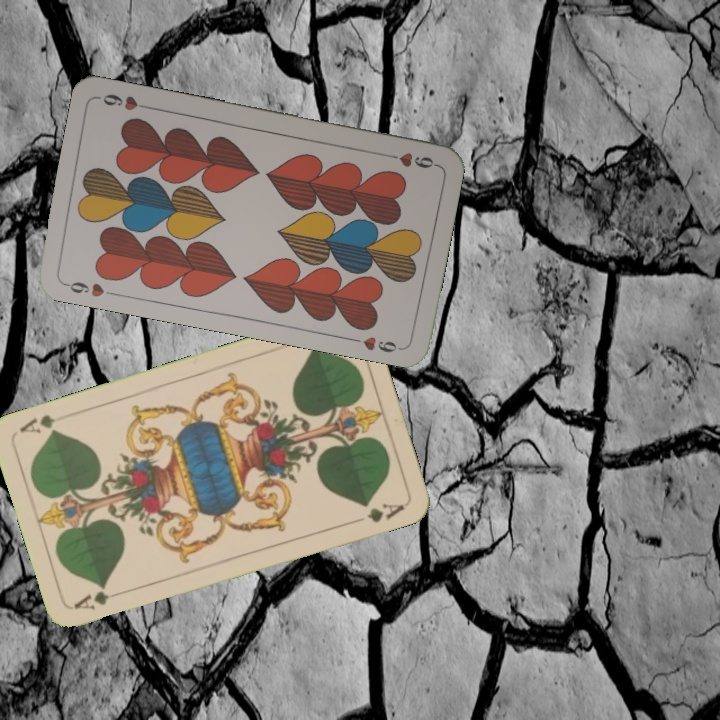GA: (70, 585, 128, 613)
H9: (380, 148, 439, 171), (60, 278, 119, 300)
